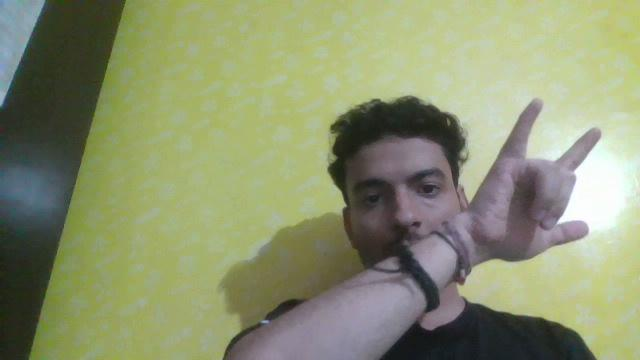Loveyou: (437, 96, 615, 285)
